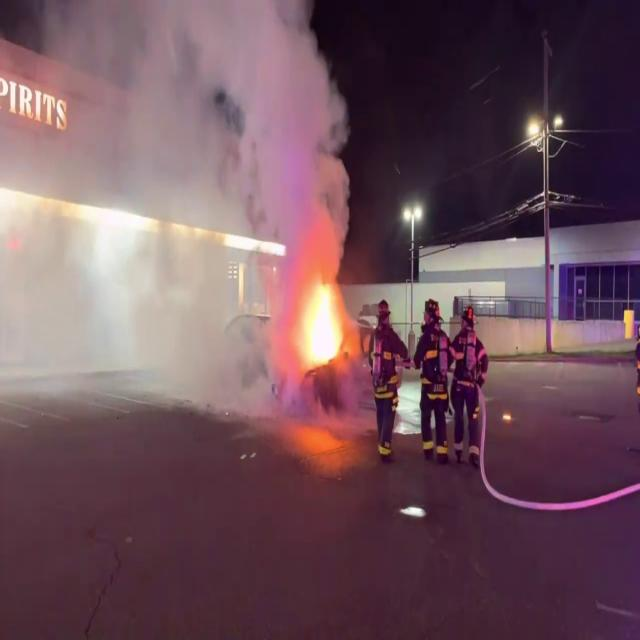Fire: (294, 270, 350, 374)
Smoke: (1, 0, 361, 430)
